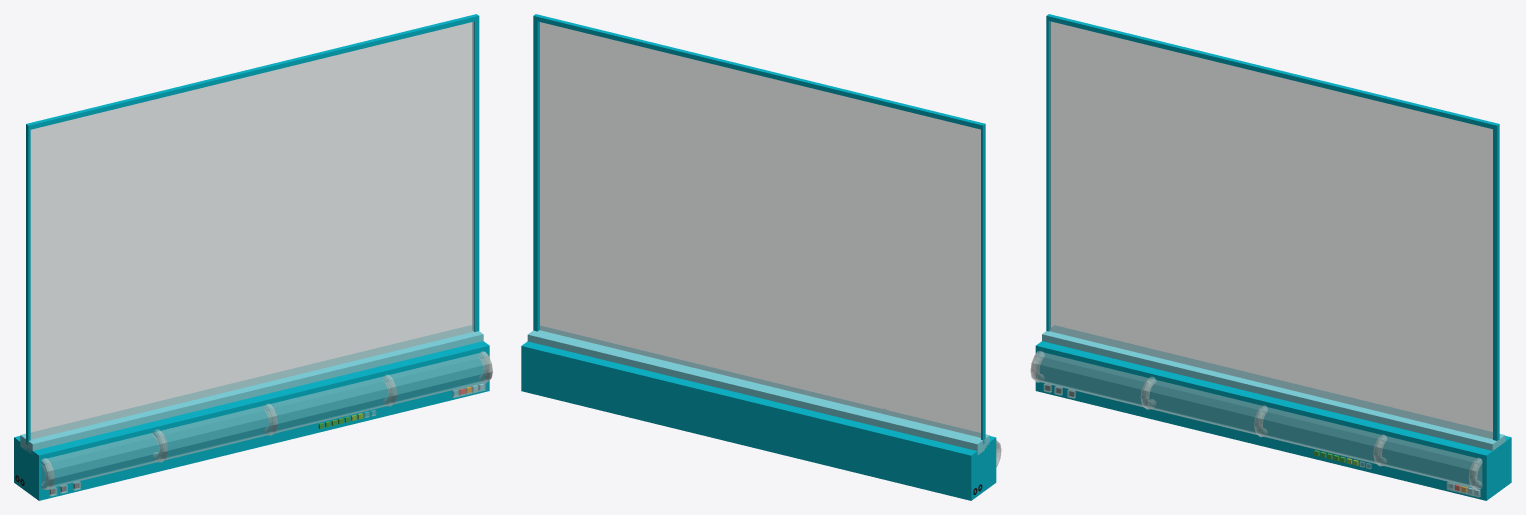
File: Digital display.glb
3 views of the same model, side by side, from view 1: azimuth 30°, elevation 25°; view 2: azimuth 150°, elevation 25°; view 3: azimuth 330°, elevation 25° (orthographic).
Parts seen in each view (by area): view 1: Node; view 2: Node; view 3: Node.
Part boxes in pixels (x1,y1,x2,y2): Node: (14,14,492,500); Node: (521,14,1001,500); Node: (1030,14,1511,500).
Bounding box in the file's own units: 2.08 × 1.62 × 0.28.
